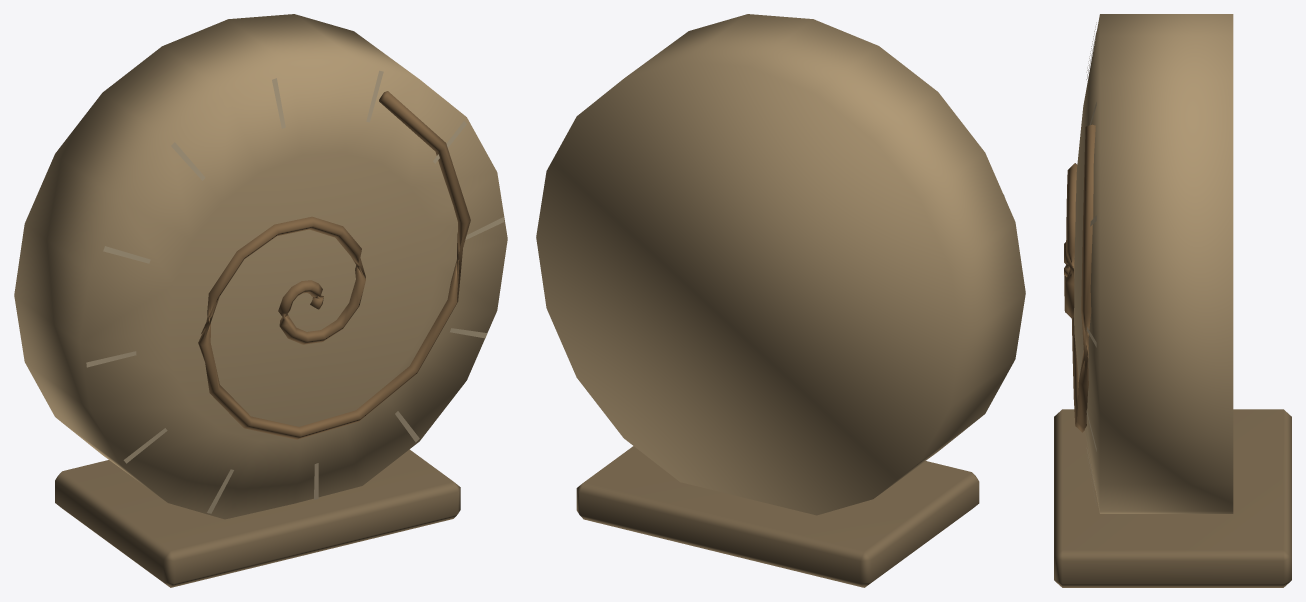
Rendered from exhibit_ammonite.glb.
3 views of the same model, side by side, from view 1: azimuth 30°, elevation 25°; view 2: azimuth 150°, elevation 25°; view 3: azimuth 270°, elevation 25° (orthographic). The views are drawn at different scales.
Parts seen in each view (by area): view 1: Body; view 2: Body; view 3: Body.
Part boxes in pixels (x1,y1,x2,y2): Body: [14, 14, 507, 587]; Body: [536, 14, 1025, 587]; Body: [1054, 14, 1291, 587].
Size of the model in its own units: 0.36 by 0.38 by 0.17.
